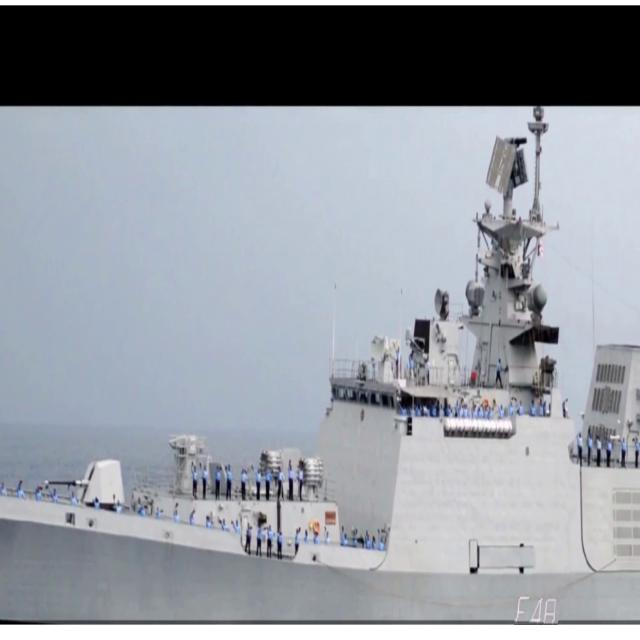OCR: (508, 588, 560, 625)
